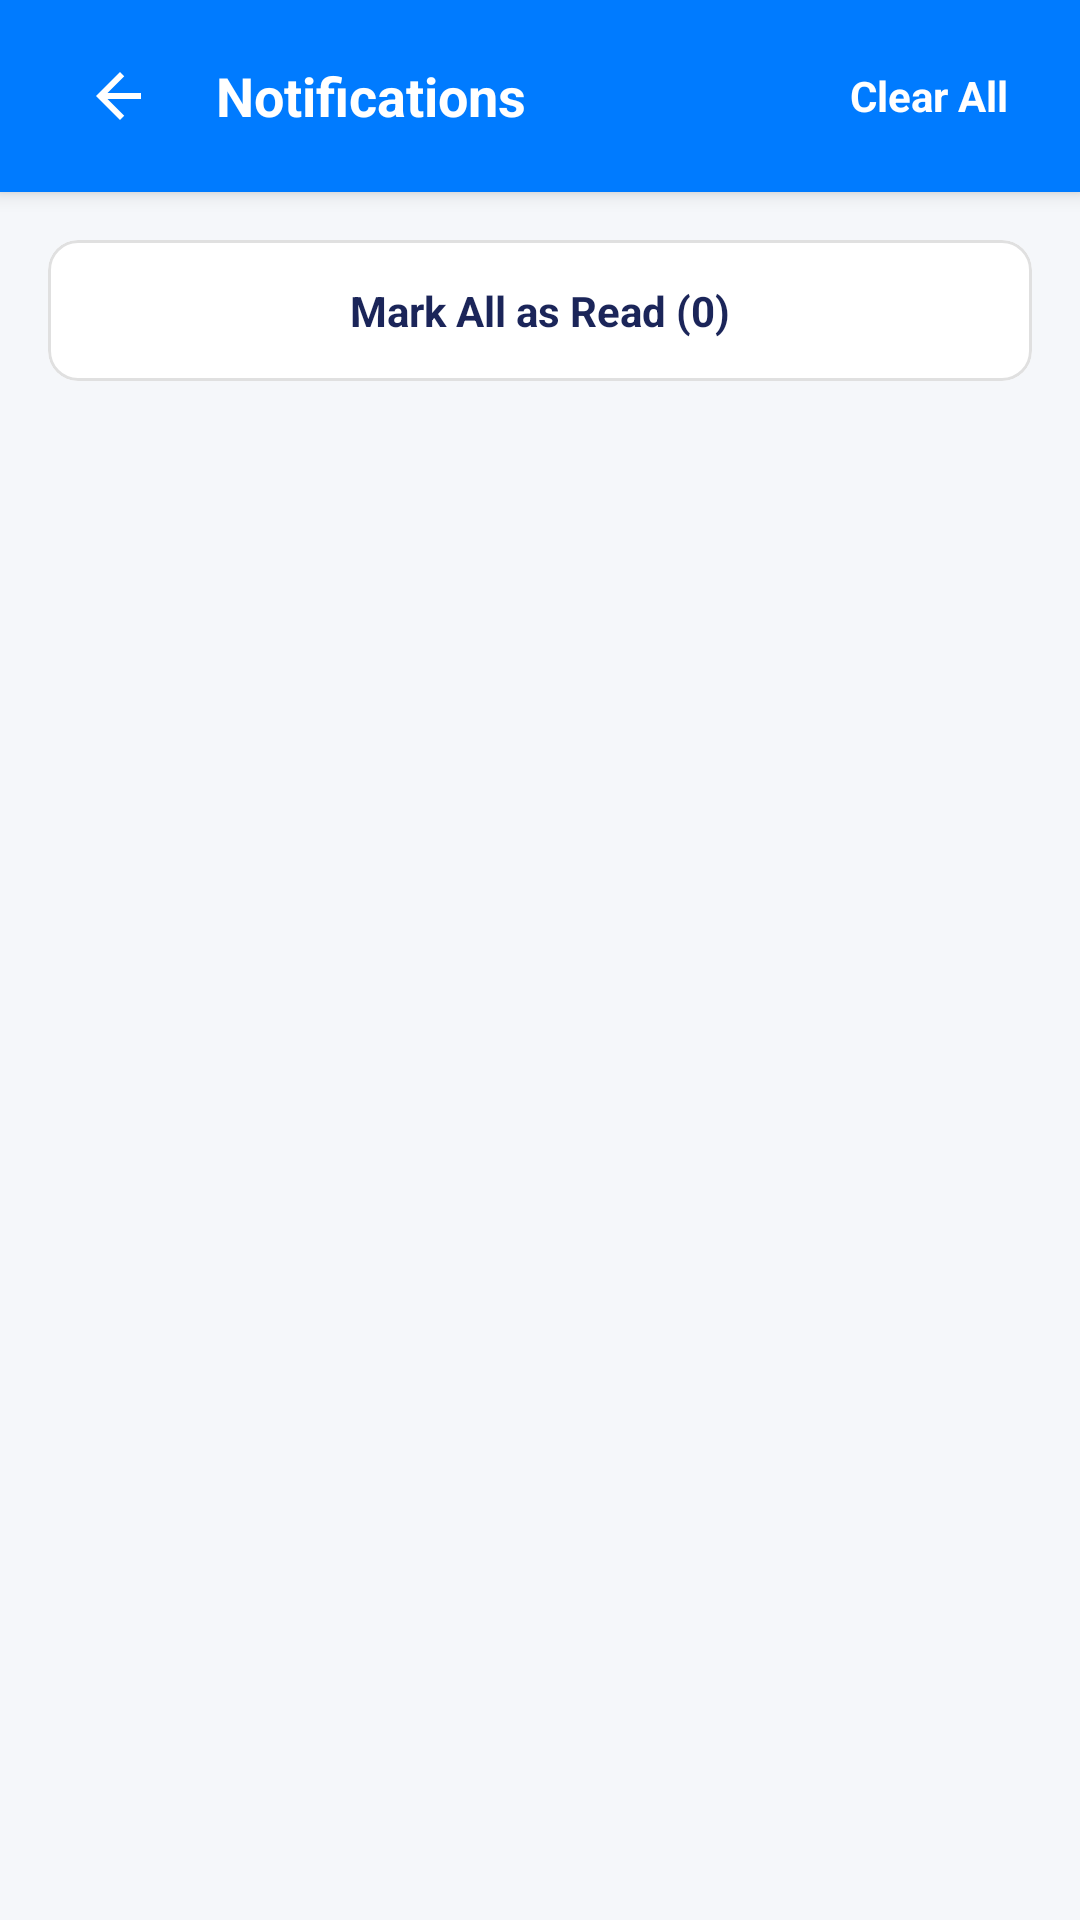

Icon click points for this 1080px x 1920px phone screenshot, format (x,y):
back: (118,96)
